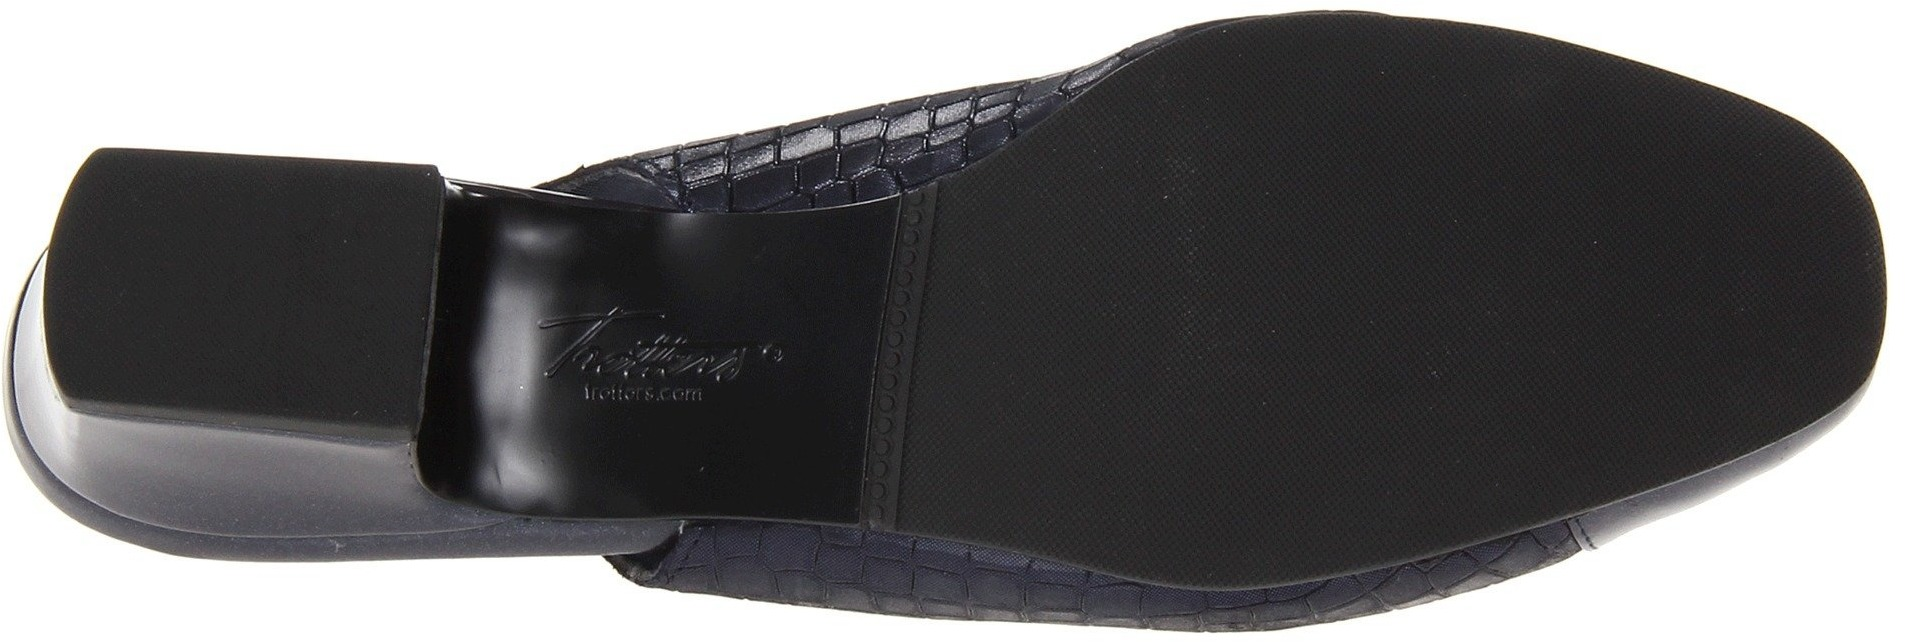other: (1210, 61, 1541, 394), (1547, 141, 1827, 418), (955, 190, 1203, 437), (98, 171, 309, 392), (1227, 400, 1394, 552)
